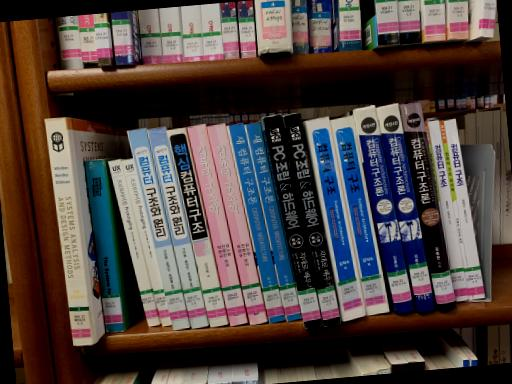book-spine: (353, 105, 415, 312), (263, 114, 322, 328), (186, 123, 248, 326), (127, 128, 189, 330), (146, 126, 208, 328), (376, 103, 435, 314), (166, 127, 228, 326), (206, 123, 267, 325), (305, 116, 365, 321), (283, 112, 340, 327), (399, 101, 456, 311), (226, 122, 285, 323), (330, 115, 389, 315), (243, 121, 301, 322), (45, 116, 93, 345), (108, 159, 159, 327), (121, 158, 171, 326), (439, 118, 485, 299), (424, 119, 468, 302), (84, 159, 124, 332)
